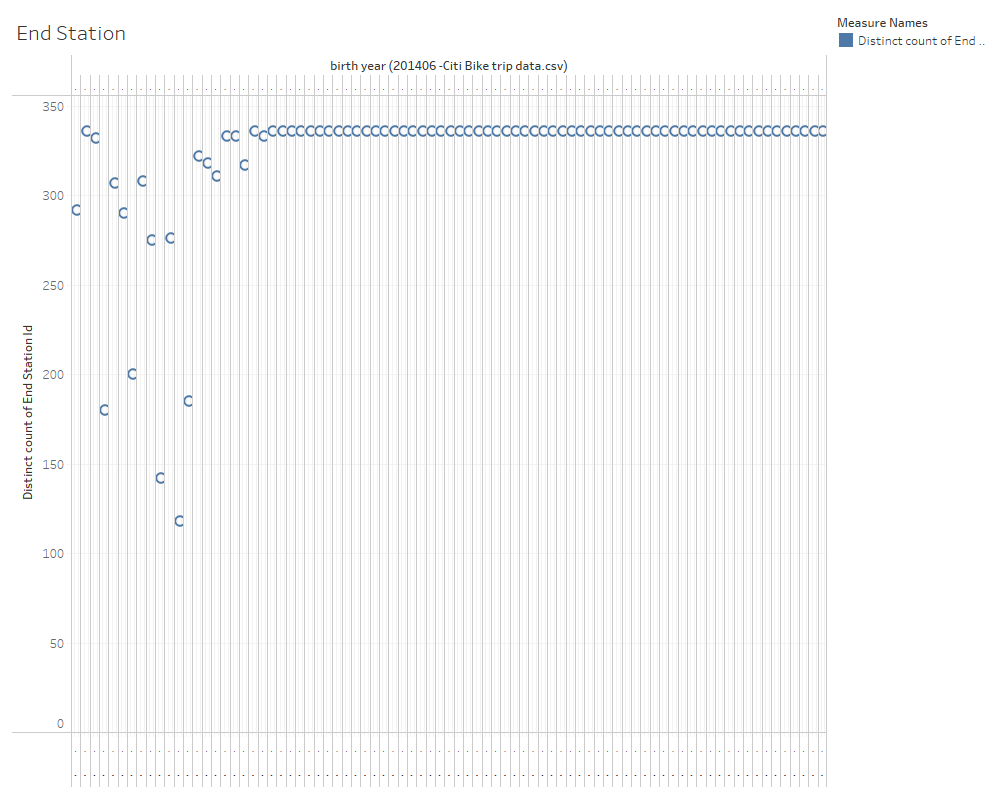

What the dashboard file says about the page in this screenshot:
{"tool":"tableau","page":{"name":"Dashboard 2","canvas":[1000,800],"ordinal":1},"visuals":[{"type":"worksheet","title":"End Station","mark":"Automatic","rows":["end station id"],"cols":["birth year (201406 -Citi Bike trip data.csv)","bikeid"],"box":[8,8,824,784]},{"type":"legend","title":"End Station","param":"[federated.1ong9pr16lo4gl1emk6070imytik].[:Measure Names]","box":[832,8,160,46]}]}

Visuals, with their boxes in screenshot pixels (x1, y1, x2, y2), scaled from the page's 1000x800 canvas onto the 1000x800 screenshot:
"End Station" worksheet: bbox(8, 8, 832, 792)
"End Station" legend: bbox(832, 8, 992, 54)
